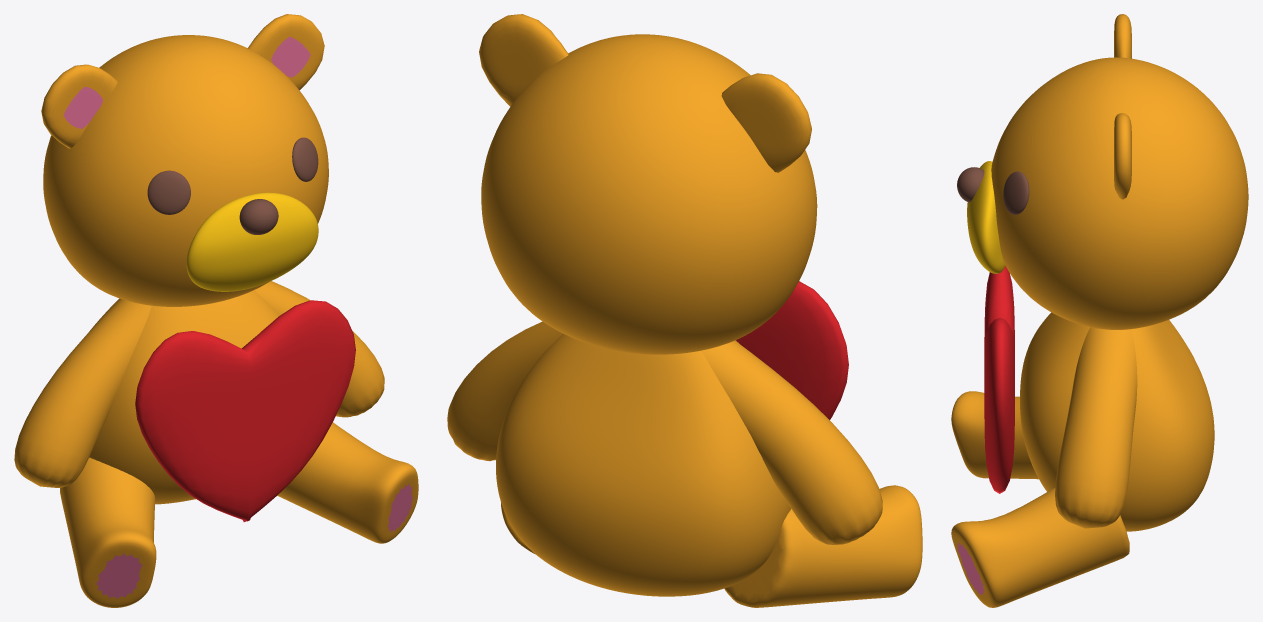
The model's file is TeddyBear.fbx.
3 views of the same model, side by side, from view 1: azimuth 30°, elevation 25°; view 2: azimuth 150°, elevation 25°; view 3: azimuth 270°, elevation 25° (orthographic). The views are drawn at different scales.
Visible parts, largest first — view 1: Heart, Cube; view 2: Heart, Cube; view 3: Heart, Cube.
Boxes of the visible parts, x1,y1,x2,y2 form: Heart: [14, 14, 418, 607]; Cube: [135, 300, 355, 521]; Heart: [447, 14, 922, 607]; Cube: [736, 281, 848, 419]; Heart: [951, 14, 1248, 607]; Cube: [984, 266, 1014, 493].
Bounding box in the file's own units: 378 × 483 × 275.
